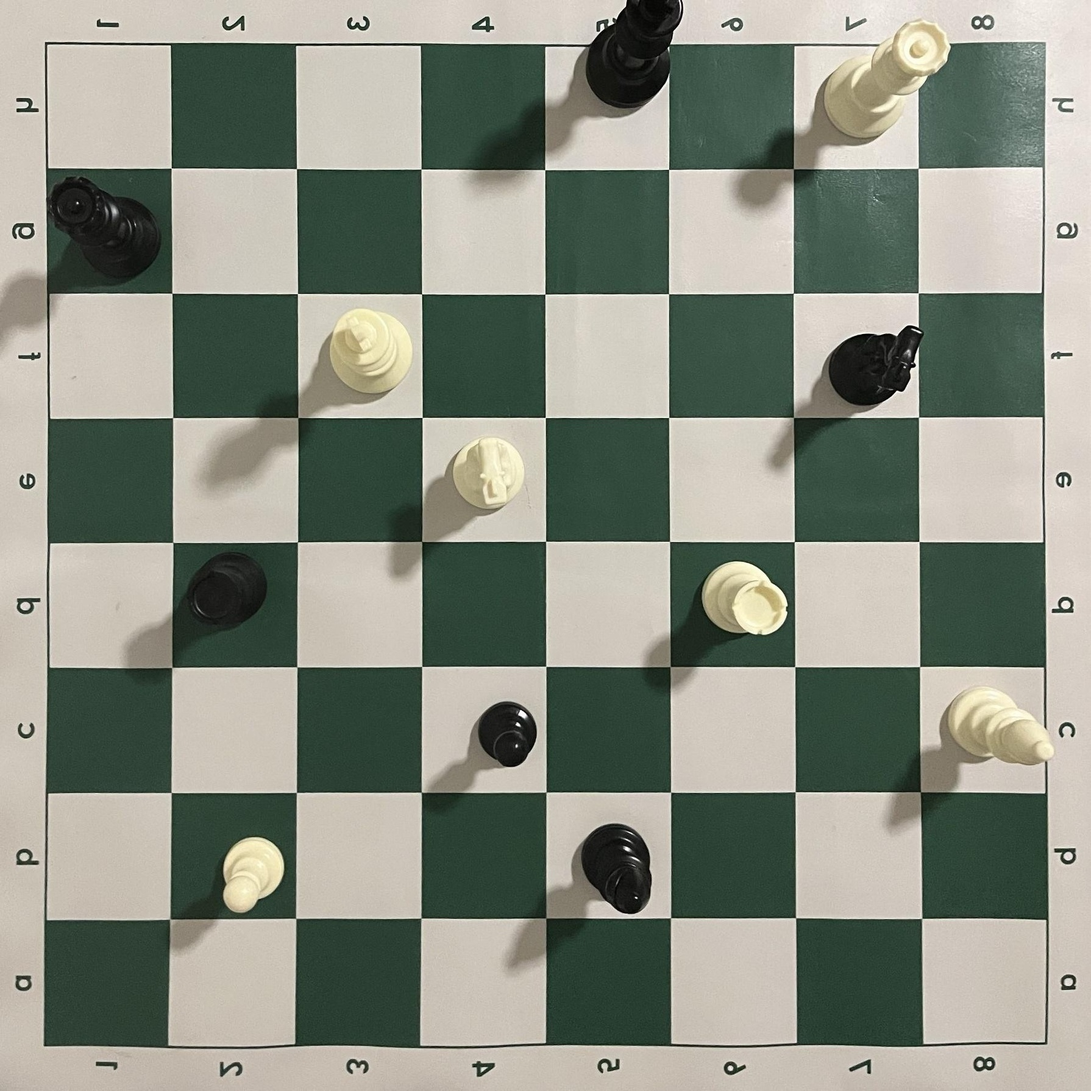black_bishop: (581, 823, 653, 915)
black_king: (584, 0, 684, 109)
black_knight: (826, 325, 924, 406)
black_pawn: (477, 700, 538, 769)
black_queen: (47, 175, 162, 280)
black_rook: (187, 552, 268, 631)
white_bishop: (946, 686, 1056, 766)
white_king: (329, 308, 413, 394)
white_knight: (451, 436, 525, 510)
white_pawn: (221, 835, 285, 914)
white_queen: (823, 18, 951, 138)
white_rook: (700, 560, 789, 636)
